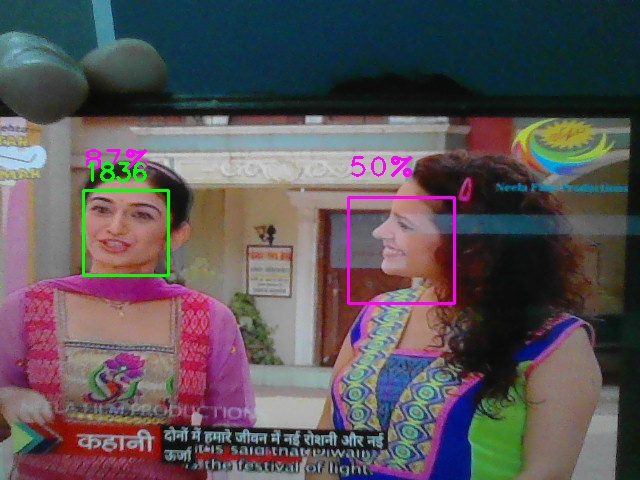fake: (83, 190, 169, 276)
